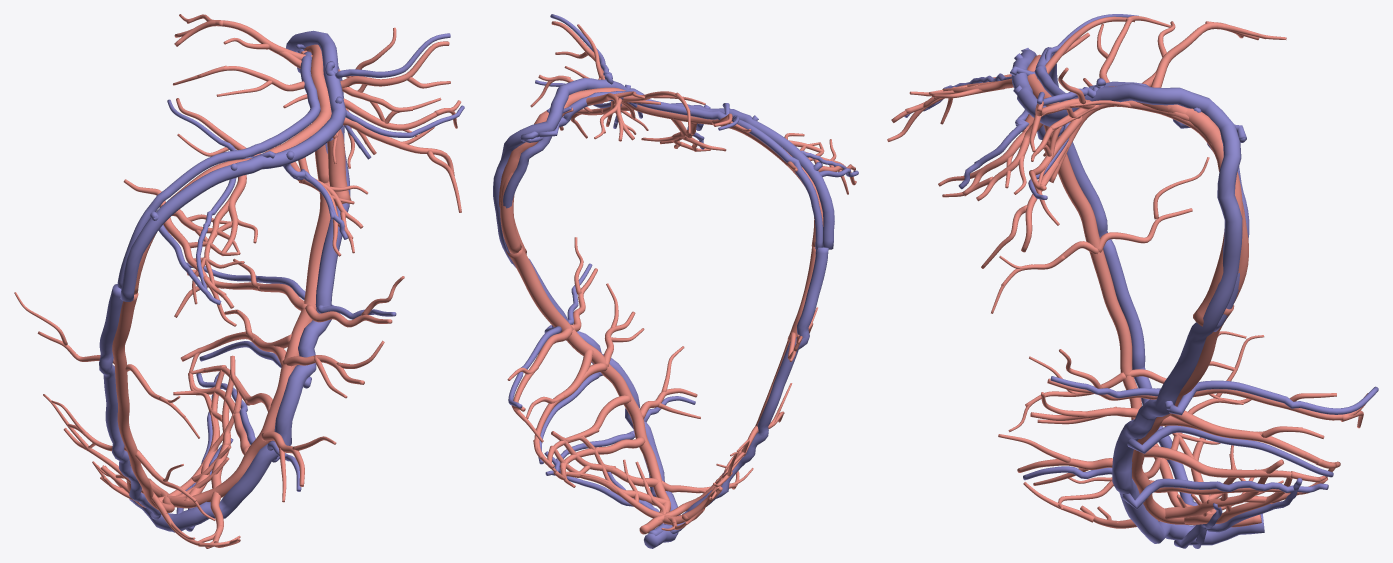
File: vessels_47.glb
The picture shows the model from 3 angles, left to right: view 1: azimuth 30°, elevation 25°; view 2: azimuth 150°, elevation 25°; view 3: azimuth 270°, elevation 25°; orthographic projection. The views are drawn at different scales.
Visible parts, largest first — view 1: Renderer Node; view 2: Renderer Node; view 3: Renderer Node.
Part boxes in pixels (x1=…): Renderer Node: x1=14, y1=14, x2=464, y2=548; Renderer Node: x1=493, y1=14, x2=858, y2=548; Renderer Node: x1=887, y1=14, x2=1378, y2=548.
Bounding box in the file's own units: 94.79 × 122 × 95.37.
